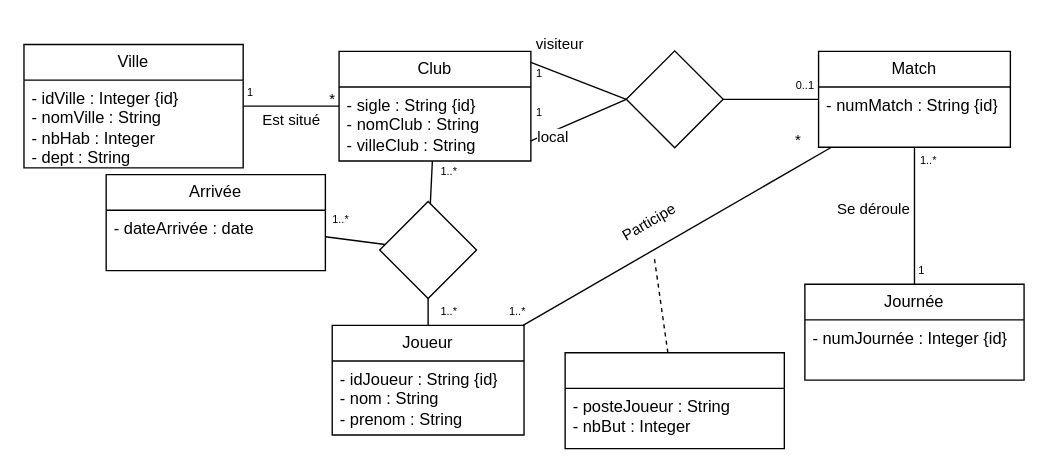
This 1048x475 diagram has some shape labels left out. Here are the shapes that lost their labels. From the top down, the box of each, then its label:
(625, 49, 723, 148): Rencontre
(378, 200, 477, 299): Joue
(564, 351, 784, 449): StatistiquesJoueur
